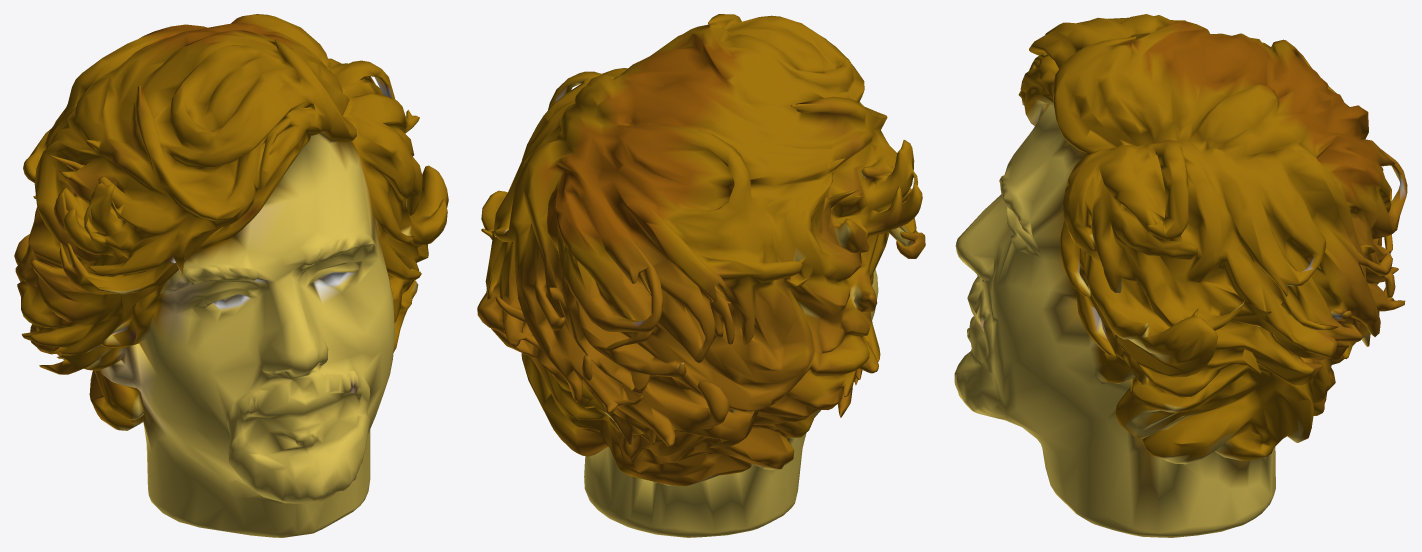
File: Beto3D-plain.glb
3 views of the same model, side by side, from view 1: azimuth 30°, elevation 25°; view 2: azimuth 150°, elevation 25°; view 3: azimuth 270°, elevation 25° (orthographic).
Size of the model in its own units: 1.49 by 1.64 by 1.46.
